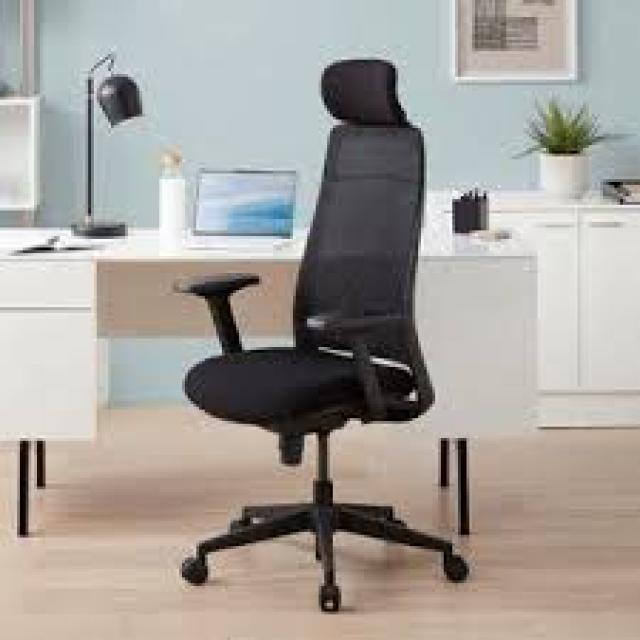chair: (91, 20, 571, 631)
